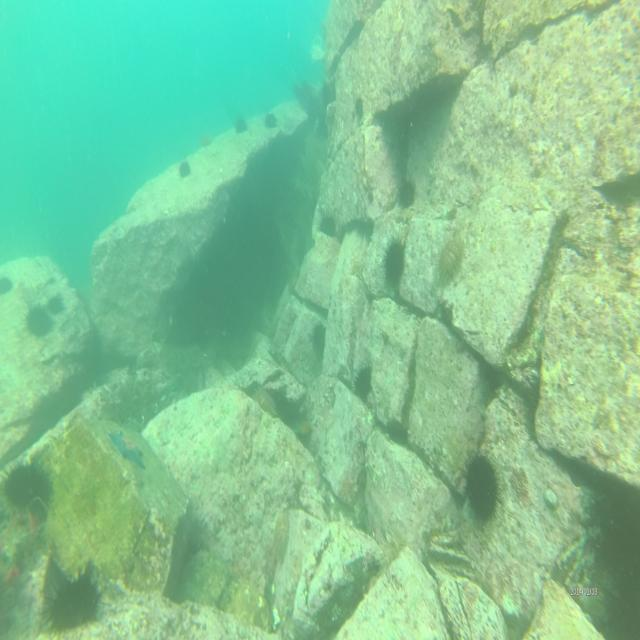echinus: (39, 572, 103, 638), (459, 444, 506, 531), (1, 451, 35, 515), (438, 230, 465, 284), (24, 300, 57, 341), (382, 236, 406, 289), (352, 359, 374, 403), (310, 320, 332, 363), (394, 173, 416, 210), (318, 211, 338, 238), (178, 155, 193, 183), (263, 111, 279, 131), (233, 116, 248, 135)
starfish: (107, 423, 147, 473)
